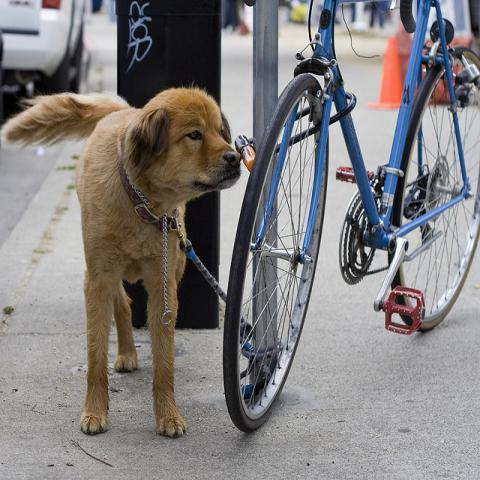car: (0, 2, 86, 130)
